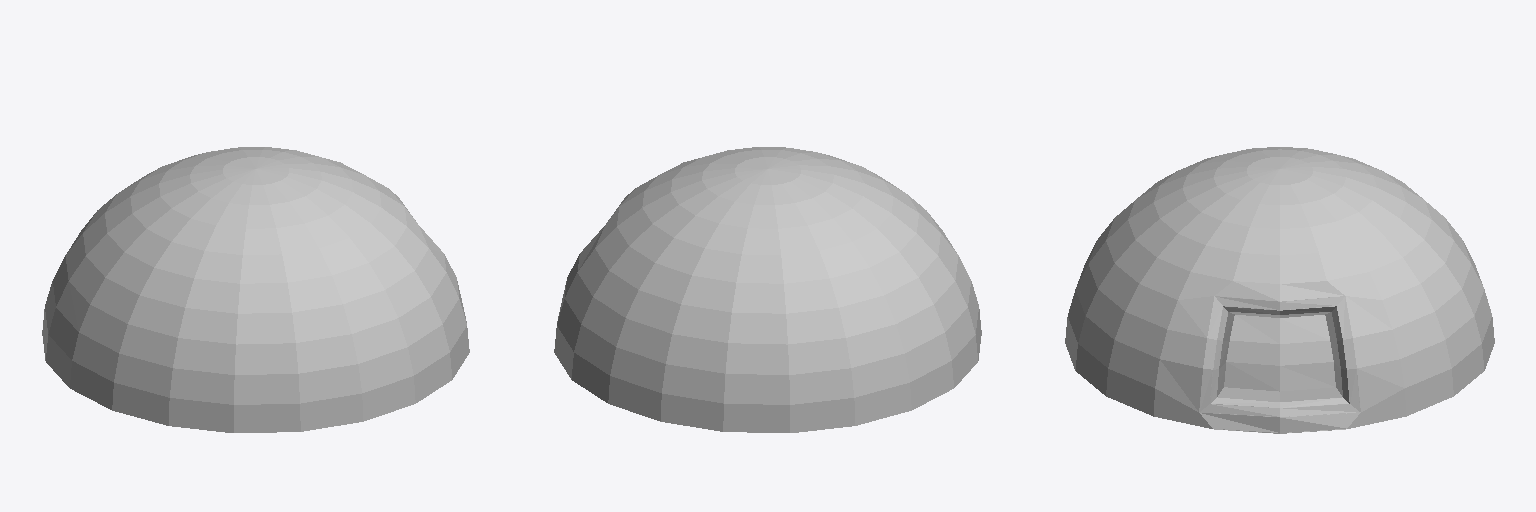
The model's file is Volt_Gun_Base.obj.
The picture shows the model from 3 angles: view 1: azimuth 30°, elevation 25°; view 2: azimuth 150°, elevation 25°; view 3: azimuth 270°, elevation 25°; orthographic projection.
Parts seen in each view (by area): view 1: g polySurface14 polySurface13_polySurface14 polySurface13; view 2: g polySurface14 polySurface13_polySurface14 polySurface13; view 3: g polySurface14 polySurface13_polySurface14 polySurface13.
Boxes of the visible parts, box(x1,y1,x2,y2) form: g polySurface14 polySurface13_polySurface14 polySurface13: box(42, 147, 469, 432); g polySurface14 polySurface13_polySurface14 polySurface13: box(554, 147, 981, 432); g polySurface14 polySurface13_polySurface14 polySurface13: box(1065, 147, 1494, 433).
Size of the model in its own units: 0.608 by 0.2717 by 0.608.